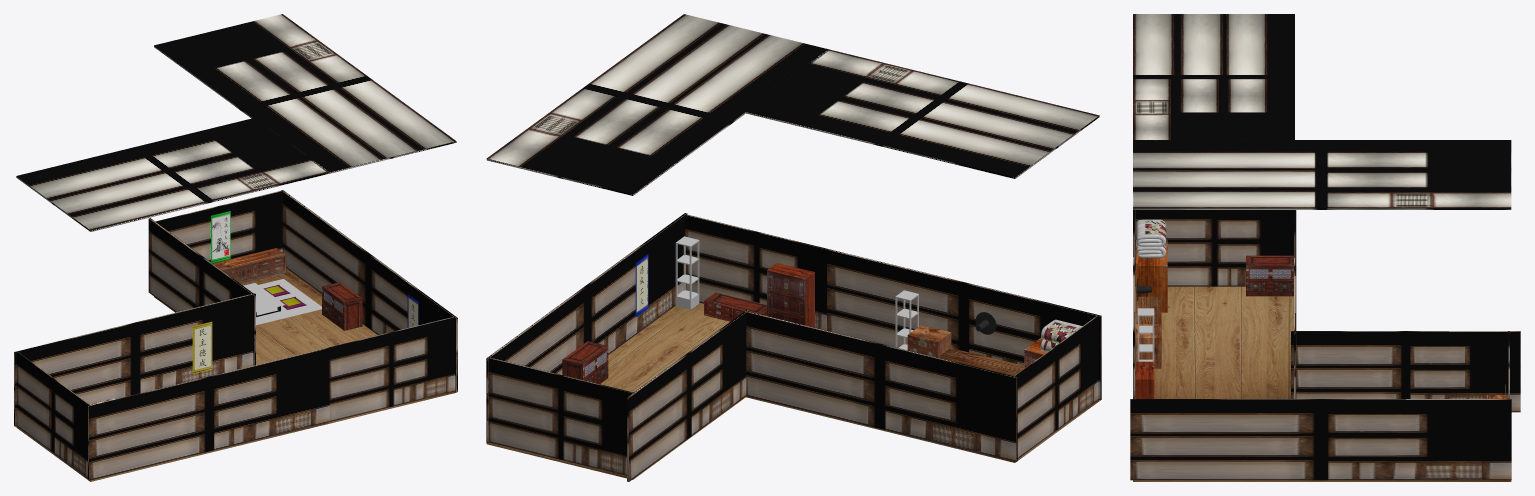
Rendered from house3.FBX.
3 views of the same model, side by side, from view 1: azimuth 30°, elevation 25°; view 2: azimuth 150°, elevation 25°; view 3: azimuth 270°, elevation 25° (orthographic). The views are drawn at different scales.
Parts seen in each view (by area): view 1: house_in_bottom, ceiling, Box037, Box039, Plane004, Plane001, Plane005, Box014; view 2: house_in_bottom, ceiling, Box040, Box037, Box017, Box041, Box011, Box012, Box026, Plane002; view 3: house_in_bottom, ceiling, Box025, Box013, Box002, Box011, Box040, Box026, Box012.
Boxes of the visible parts, left/top/right/bottom form: house_in_bottom: left=14, top=190, right=457, bottom=481; ceiling: left=16, top=14, right=456, bottom=231; Box037: left=322, top=282, right=362, bottom=330; Box039: left=220, top=248, right=285, bottom=283; Plane004: left=256, top=279, right=321, bottom=325; Plane001: left=192, top=321, right=212, bottom=373; Plane005: left=211, top=211, right=230, bottom=263; Box014: left=243, top=283, right=284, bottom=316; house_in_bottom: left=486, top=213, right=1101, bottom=481; ceiling: left=486, top=14, right=1099, bottom=195; Box040: left=767, top=263, right=814, bottom=327; Box037: left=562, top=341, right=608, bottom=384; Box017: left=675, top=236, right=699, bottom=309; Box041: left=704, top=292, right=766, bottom=321; Box011: left=907, top=325, right=951, bottom=357; Box012: left=938, top=348, right=1024, bottom=376; Box026: left=895, top=290, right=918, bottom=350; Plane002: left=635, top=254, right=648, bottom=317; house_in_bottom: left=1130, top=210, right=1520, bottom=481; ceiling: left=1133, top=14, right=1511, bottom=209; Box025: left=1246, top=255, right=1293, bottom=296; Box013: left=1136, top=240, right=1167, bottom=312; Box002: left=1136, top=219, right=1166, bottom=246; Box011: left=1135, top=324, right=1161, bottom=368; Box040: left=1135, top=361, right=1154, bottom=398; Box026: left=1137, top=308, right=1154, bottom=361; Box012: left=1136, top=296, right=1161, bottom=323.
Size of the model in its own units: 548 by 358 by 462.
